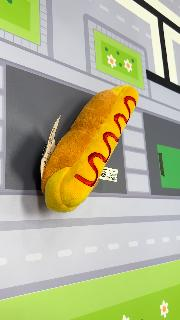hotdog: (41, 84, 139, 214)
